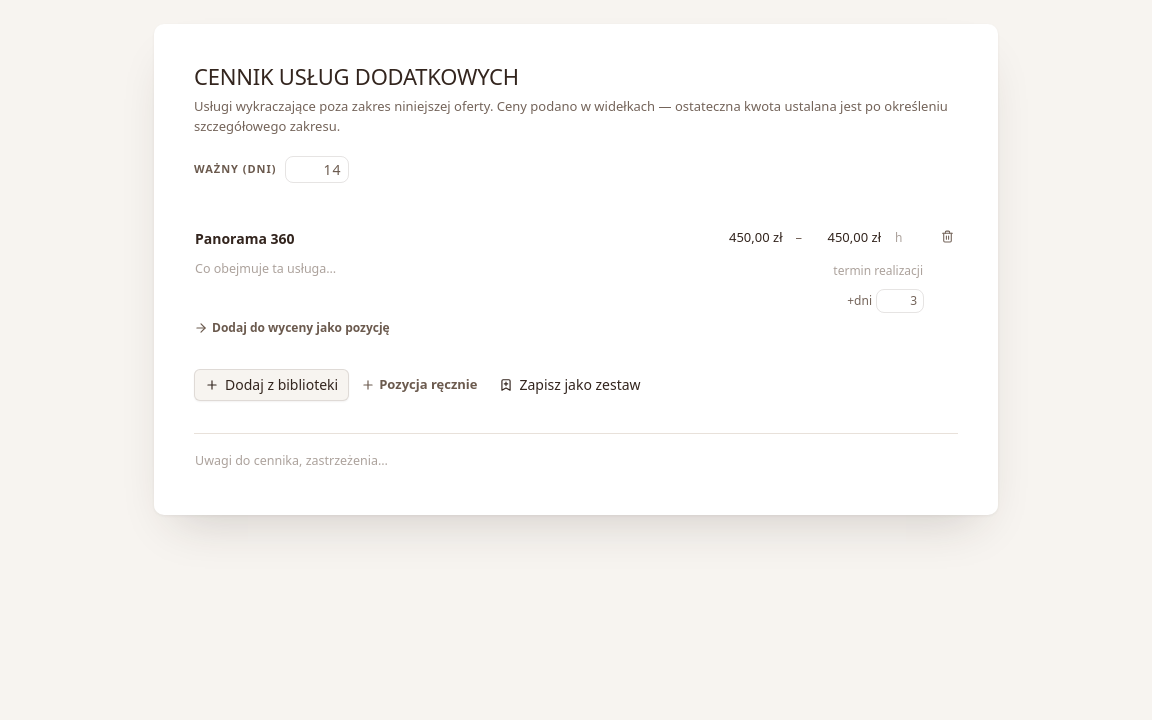
Test case: PriceListTab — most z dwoma efektami (T-64) › oba przelaczniki odznaczone blokuja potwierdzenie
Click the button "Dodaj do wyceny jako pozycję": x=292, y=328 194,318 -> 390,336
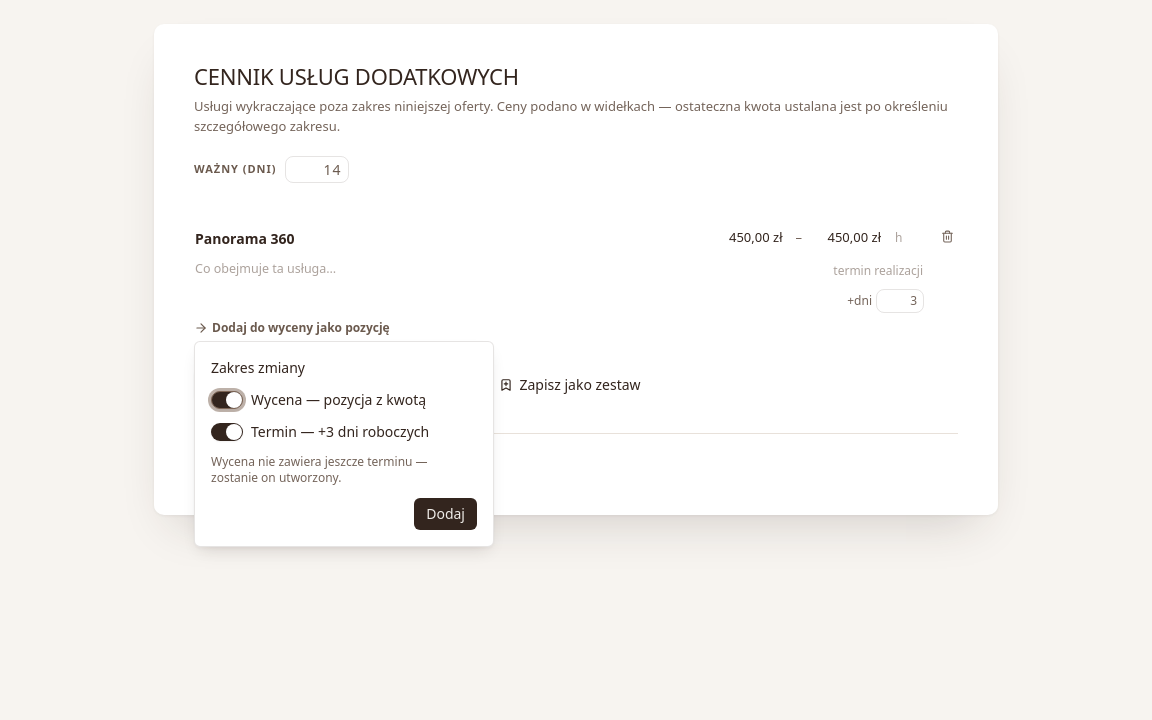
Click the switch named "Wycena — pozycja z kwotą" next to "Wycena — pozycja z kwotą": x=227, y=400 211,391 -> 243,409
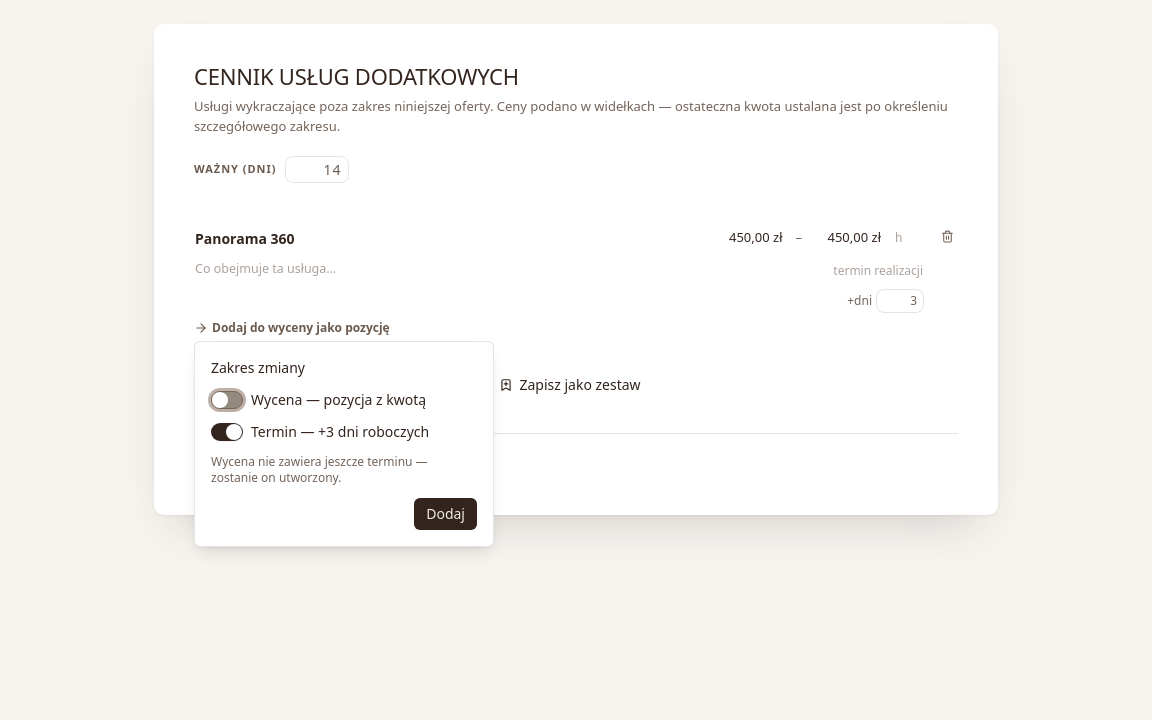
Click the switch next to "Termin — +3 dni roboczych": x=227, y=432 211,423 -> 243,441
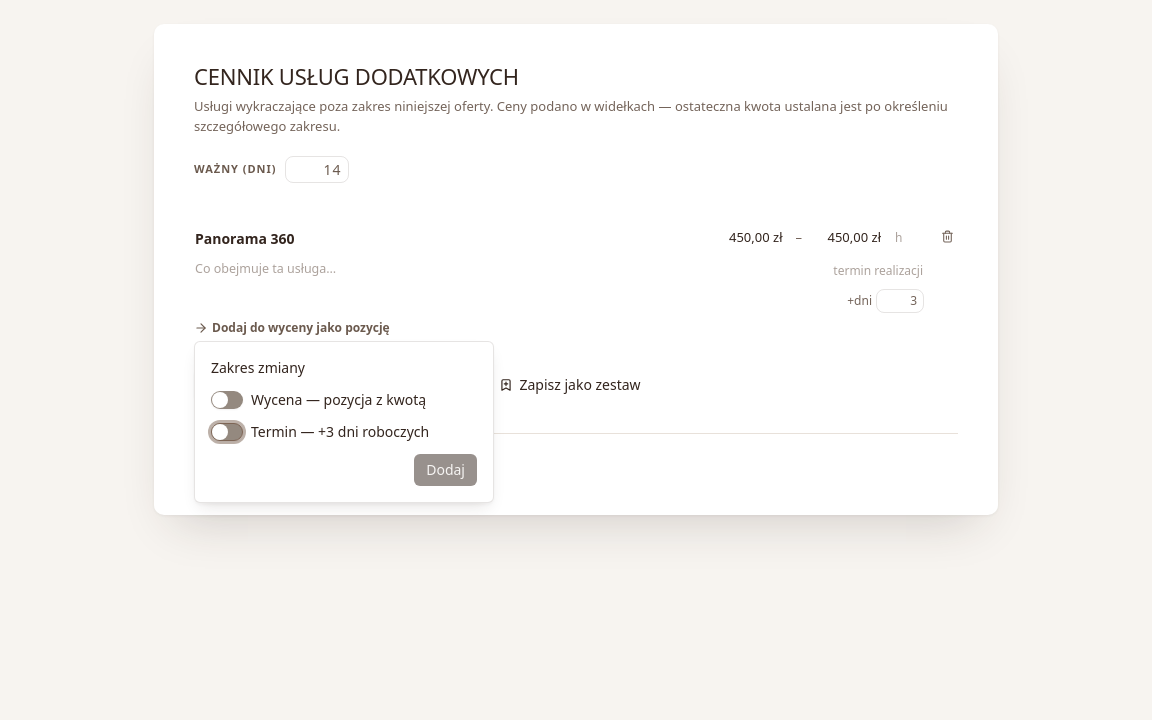
Check: the button "Dodaj" is disabled, box 414,454 -> 477,486
